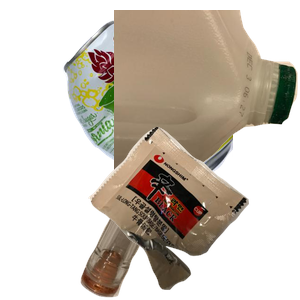glass: (78, 128, 298, 300)
metal: (60, 18, 300, 198)
plastic: (114, 10, 300, 179)
trash: (86, 124, 300, 300)
